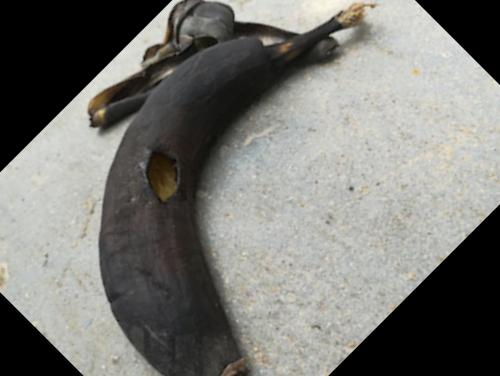Banana Rotten: (88, 0, 363, 375)
